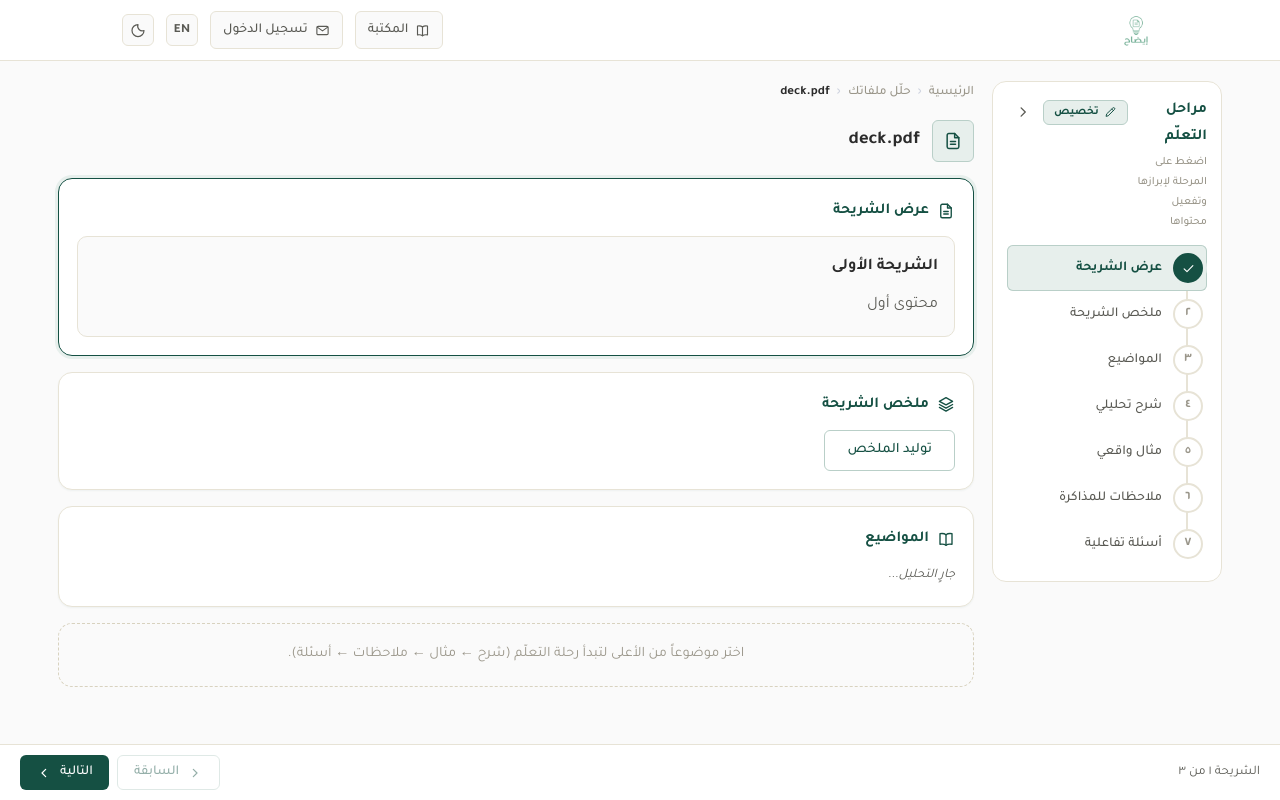
Test case: bottom navigation shows a counter and moves between slides
The image size is (1280, 800).
Expected: the text with class "an-bottom-count" shows "١ من ٣", [1178,766,1260,779]
Expected: the button "السابقة" is disabled, [117,755,220,790]
Click the button "التالية" at {"x": 64, "y": 772}, box [20,755,109,790]
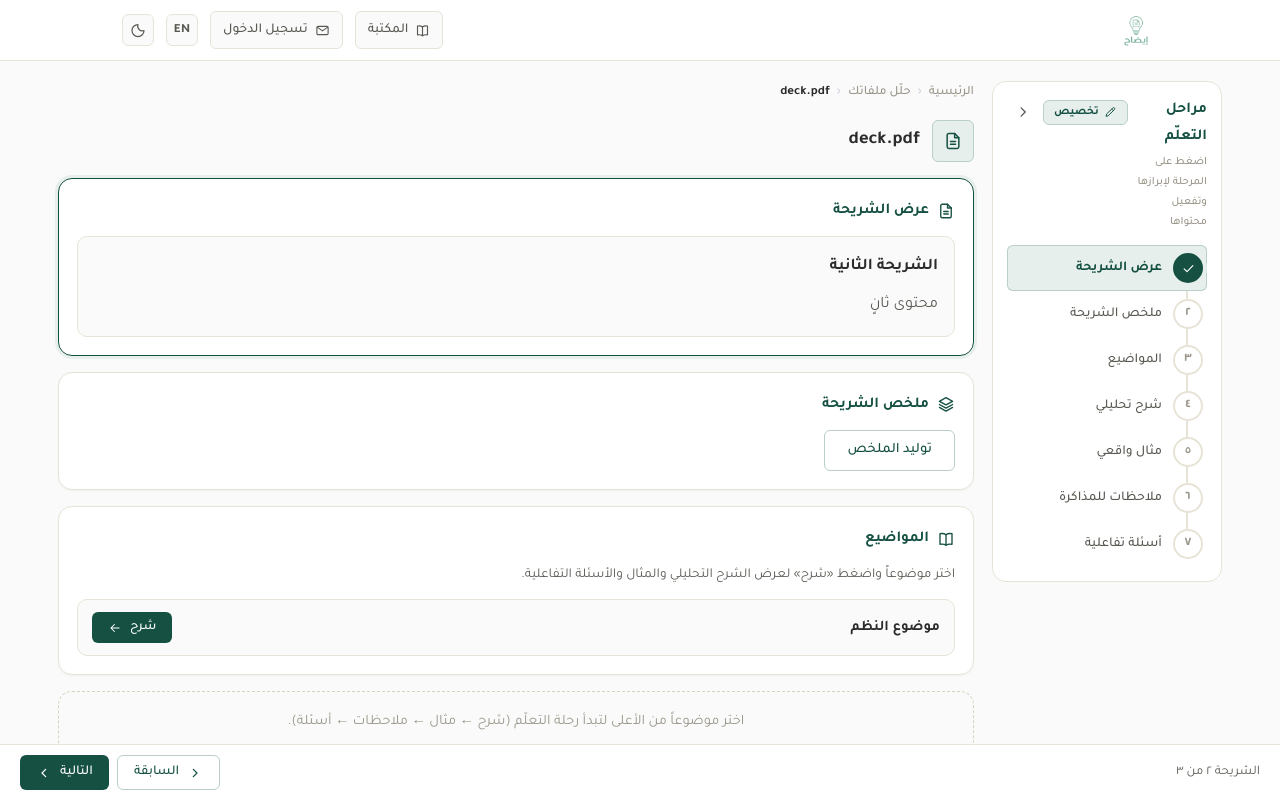
Expected: the text with class "an-bottom-count" shows "٢ من ٣", [1176,766,1260,779]
Expected: the button "السابقة" is enabled, [117,755,220,790]
